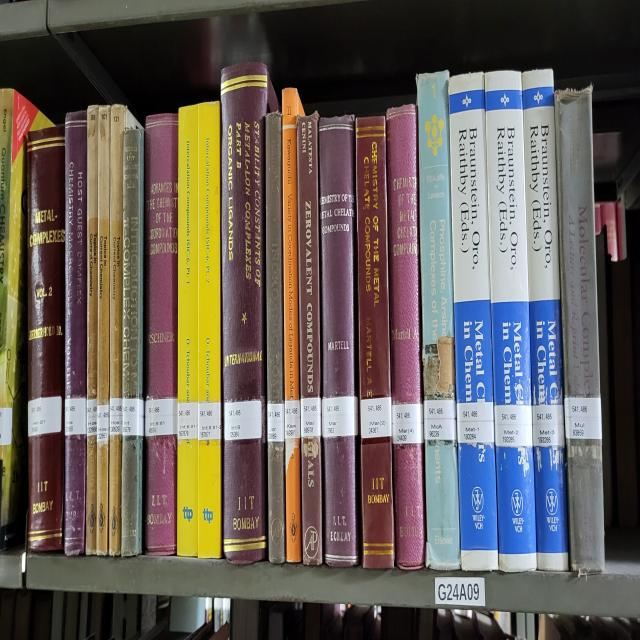Book: (221, 62, 278, 563), (485, 70, 536, 571), (449, 73, 498, 571), (555, 87, 604, 574), (522, 70, 569, 571), (416, 70, 460, 571), (178, 103, 221, 557), (355, 116, 395, 568), (386, 106, 425, 568), (319, 116, 359, 565), (28, 124, 65, 552), (144, 114, 179, 555), (109, 106, 139, 555), (281, 87, 304, 563), (298, 114, 322, 565), (64, 111, 88, 555), (121, 127, 144, 557), (178, 106, 199, 557), (265, 111, 285, 563), (96, 106, 111, 555), (85, 106, 99, 555)
Label: (456, 400, 494, 444), (494, 403, 532, 446), (321, 395, 358, 438), (565, 398, 601, 441), (224, 400, 261, 441), (532, 403, 565, 446), (28, 395, 61, 436), (391, 403, 424, 444), (424, 400, 456, 441), (145, 398, 178, 436), (360, 398, 391, 438), (198, 400, 221, 441), (300, 398, 321, 438), (122, 398, 144, 436), (178, 400, 198, 441), (65, 398, 86, 436), (268, 403, 285, 444), (285, 400, 301, 441), (96, 403, 110, 444), (86, 398, 98, 436), (110, 398, 122, 436)
